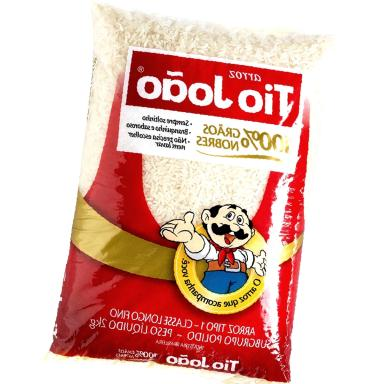rice package: (51, 5, 330, 382)
